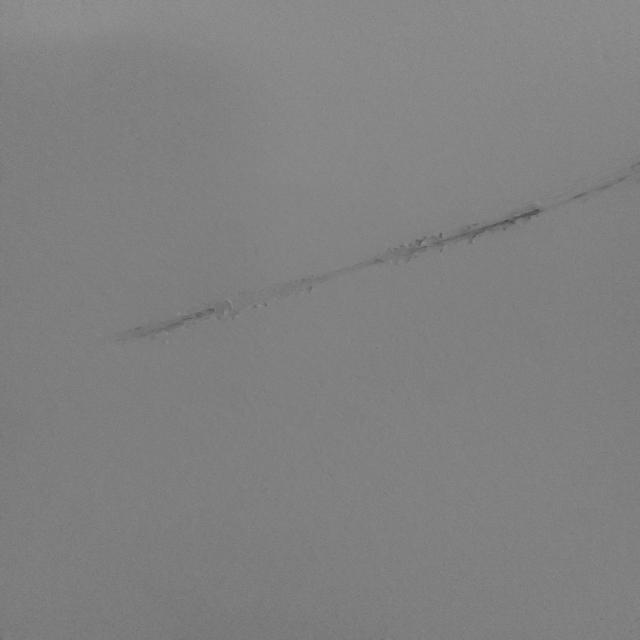rough and patchy surface: (80, 159, 635, 359)
